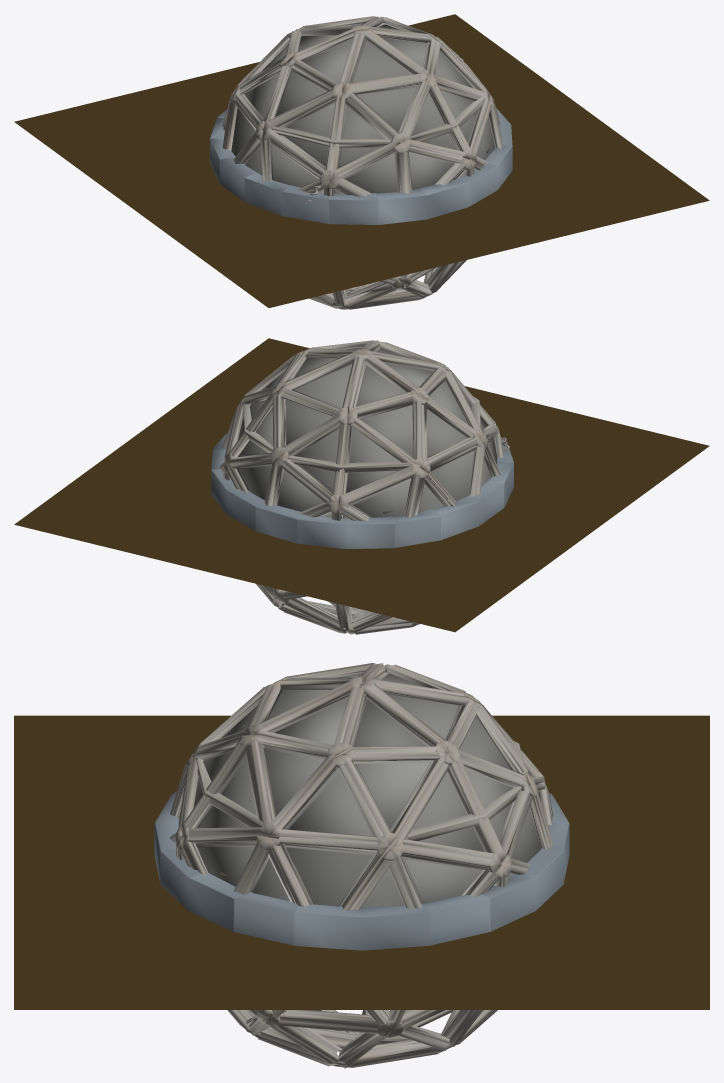
Rendered from lab.glb.
3 views of the same model, one above another, from view 1: azimuth 30°, elevation 25°; view 2: azimuth 150°, elevation 25°; view 3: azimuth 270°, elevation 25° (orthographic). The views are drawn at different scales.
Visible parts, largest first — view 1: modelo; view 2: modelo; view 3: modelo.
Part boxes in pixels (x1,y1,x2,y2): modelo: [14, 14, 709, 309]; modelo: [14, 338, 709, 634]; modelo: [14, 663, 709, 1068].
Size of the model in its own units: 9.82 by 5.74 by 9.82.
